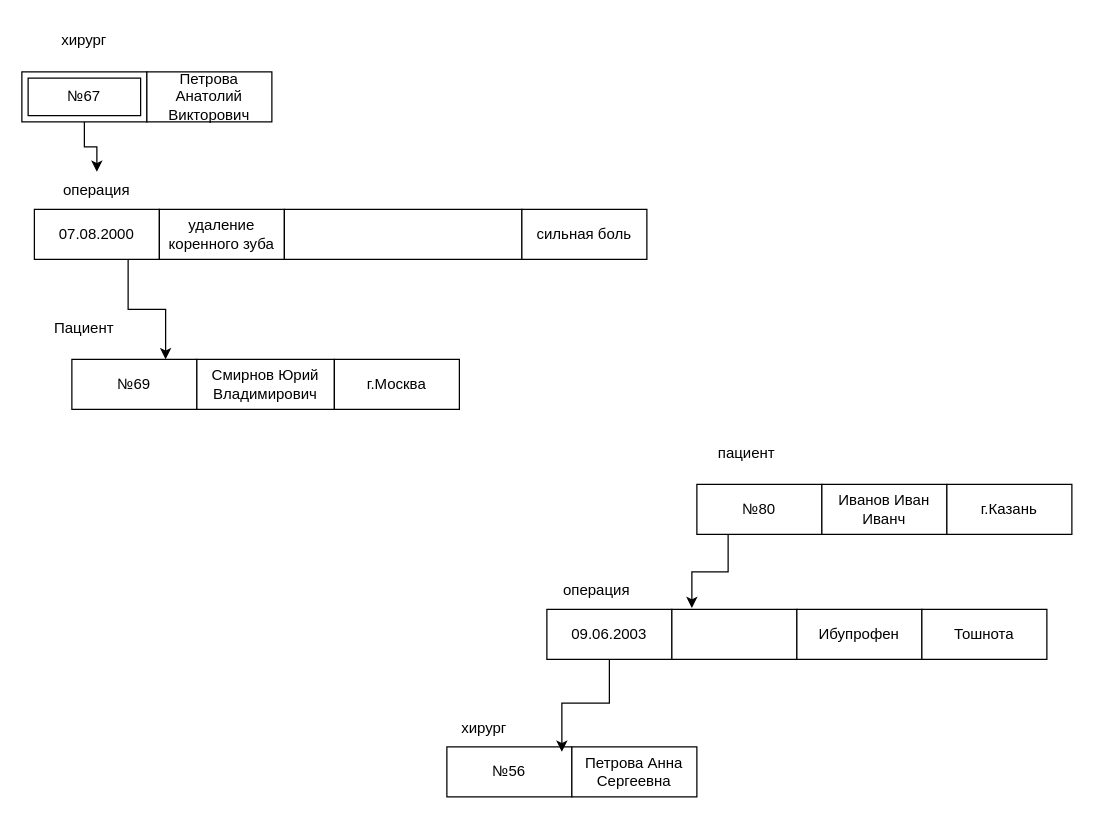
This 1094x819 diagram has some shape labels left out. The box of each missing label's shape, as (x1, y1, x2, y2) in pixels:
Пластика носа: (671, 608, 797, 659)
против воспалительное средство: (283, 208, 522, 259)
